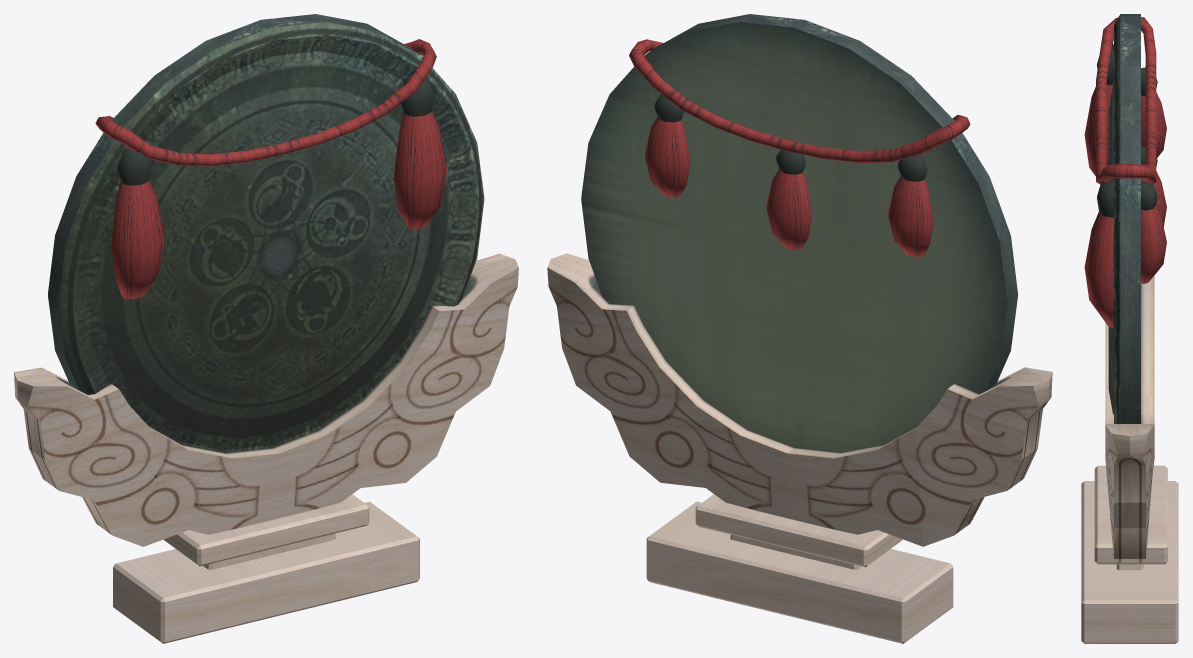
File: ZingiKagami01.fbx
3 views of the same model, side by side, from view 1: azimuth 30°, elevation 25°; view 2: azimuth 150°, elevation 25°; view 3: azimuth 270°, elevation 25° (orthographic). The views are drawn at different scales.
Parts seen in each view (by area): view 1: ZingiKagami01; view 2: ZingiKagami01; view 3: ZingiKagami01.
Boxes of the visible parts, bbox=[...] form: ZingiKagami01: bbox=[14, 14, 518, 643]; ZingiKagami01: bbox=[547, 14, 1052, 643]; ZingiKagami01: bbox=[1081, 14, 1178, 643].
Size of the model in its own units: 46.96 by 51.53 by 8.26.
1 material, 1 textured.
